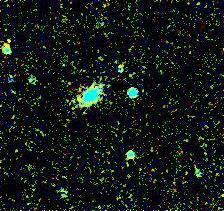star: (102, 49, 132, 79)
